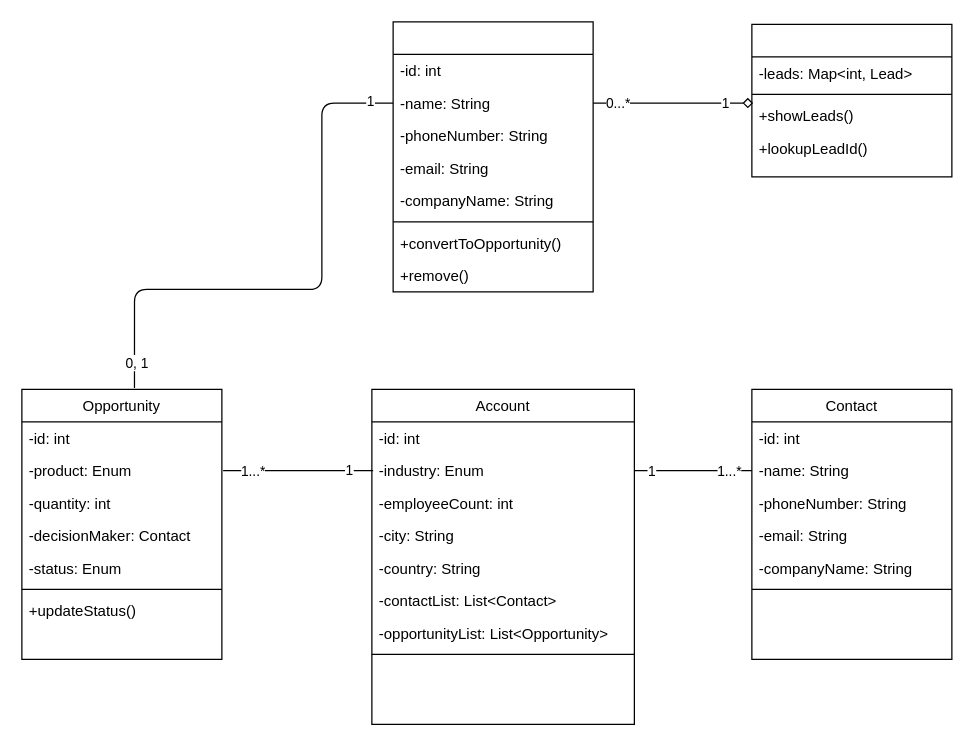
Image size: 974x746. Some labels were removed from this diagram. The box of each missing label's shape, as (x1, y1, x2, y2) in pixels:
Lead: (392, 21, 593, 292)
LeadList: (751, 23, 952, 177)
